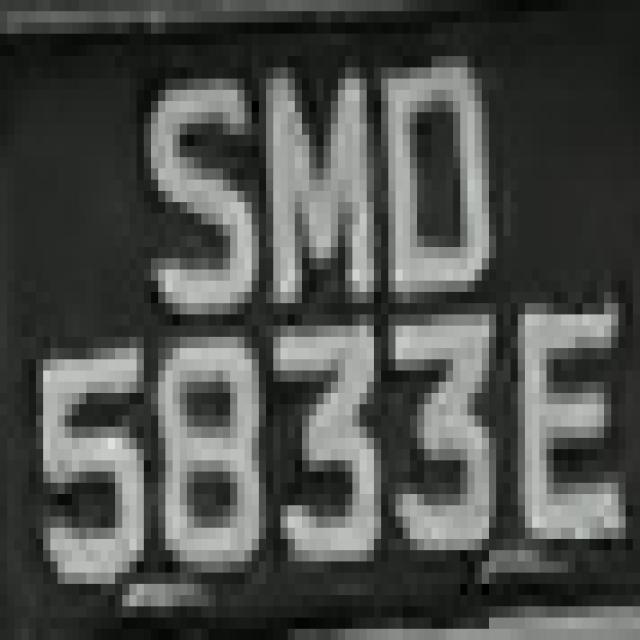3: (360, 303, 496, 595), (259, 303, 381, 550)
5: (22, 337, 151, 606)
8: (144, 337, 259, 595)
D: (359, 22, 525, 326)
E: (504, 270, 612, 572)
M: (252, 56, 402, 314)
S: (115, 56, 266, 337)
